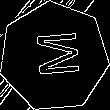M_W: (27, 31, 81, 82)
